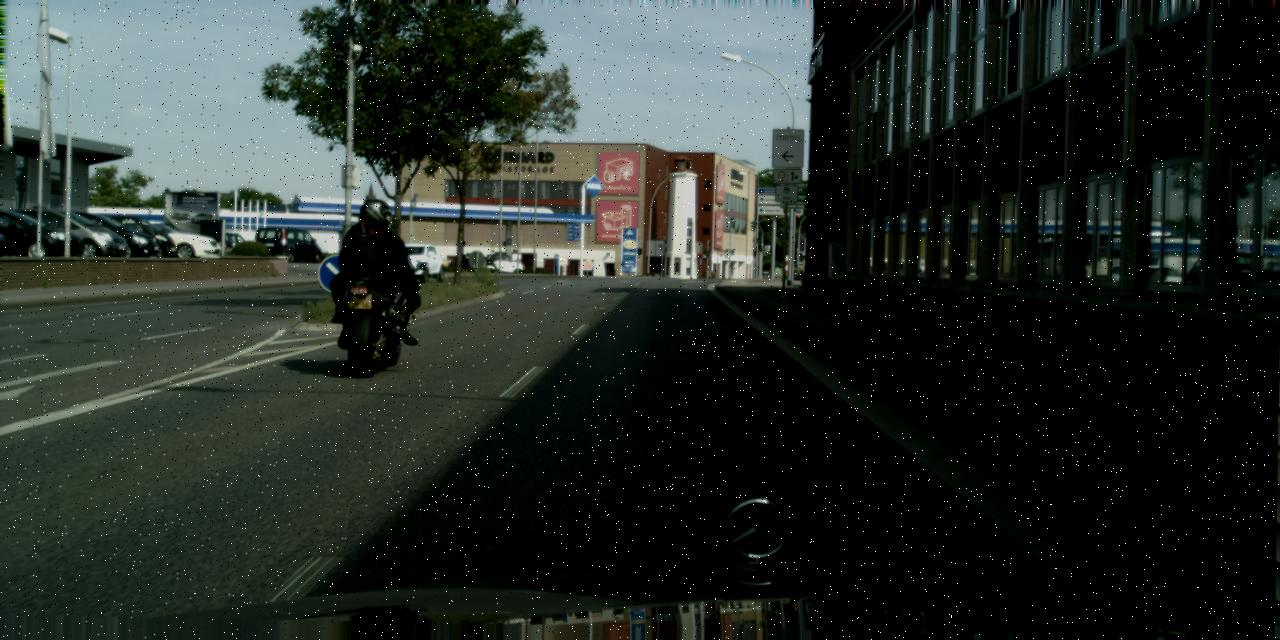ped: (349, 220, 398, 342), (346, 199, 395, 318)
